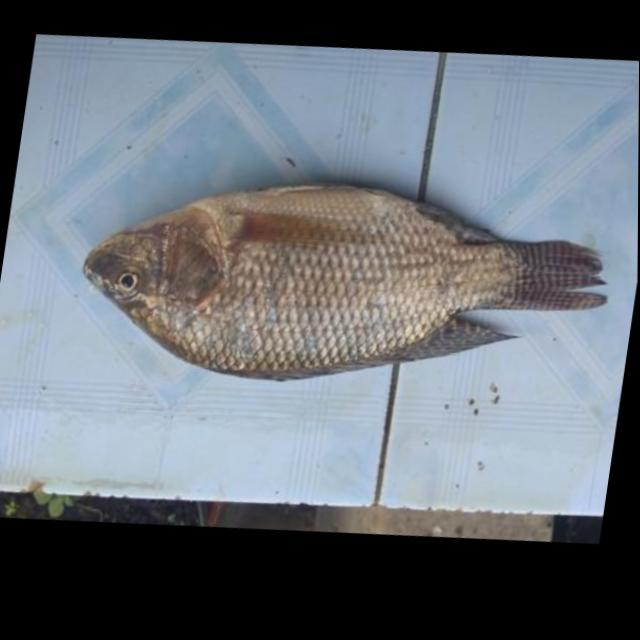Tilapia: (67, 120, 625, 447)
